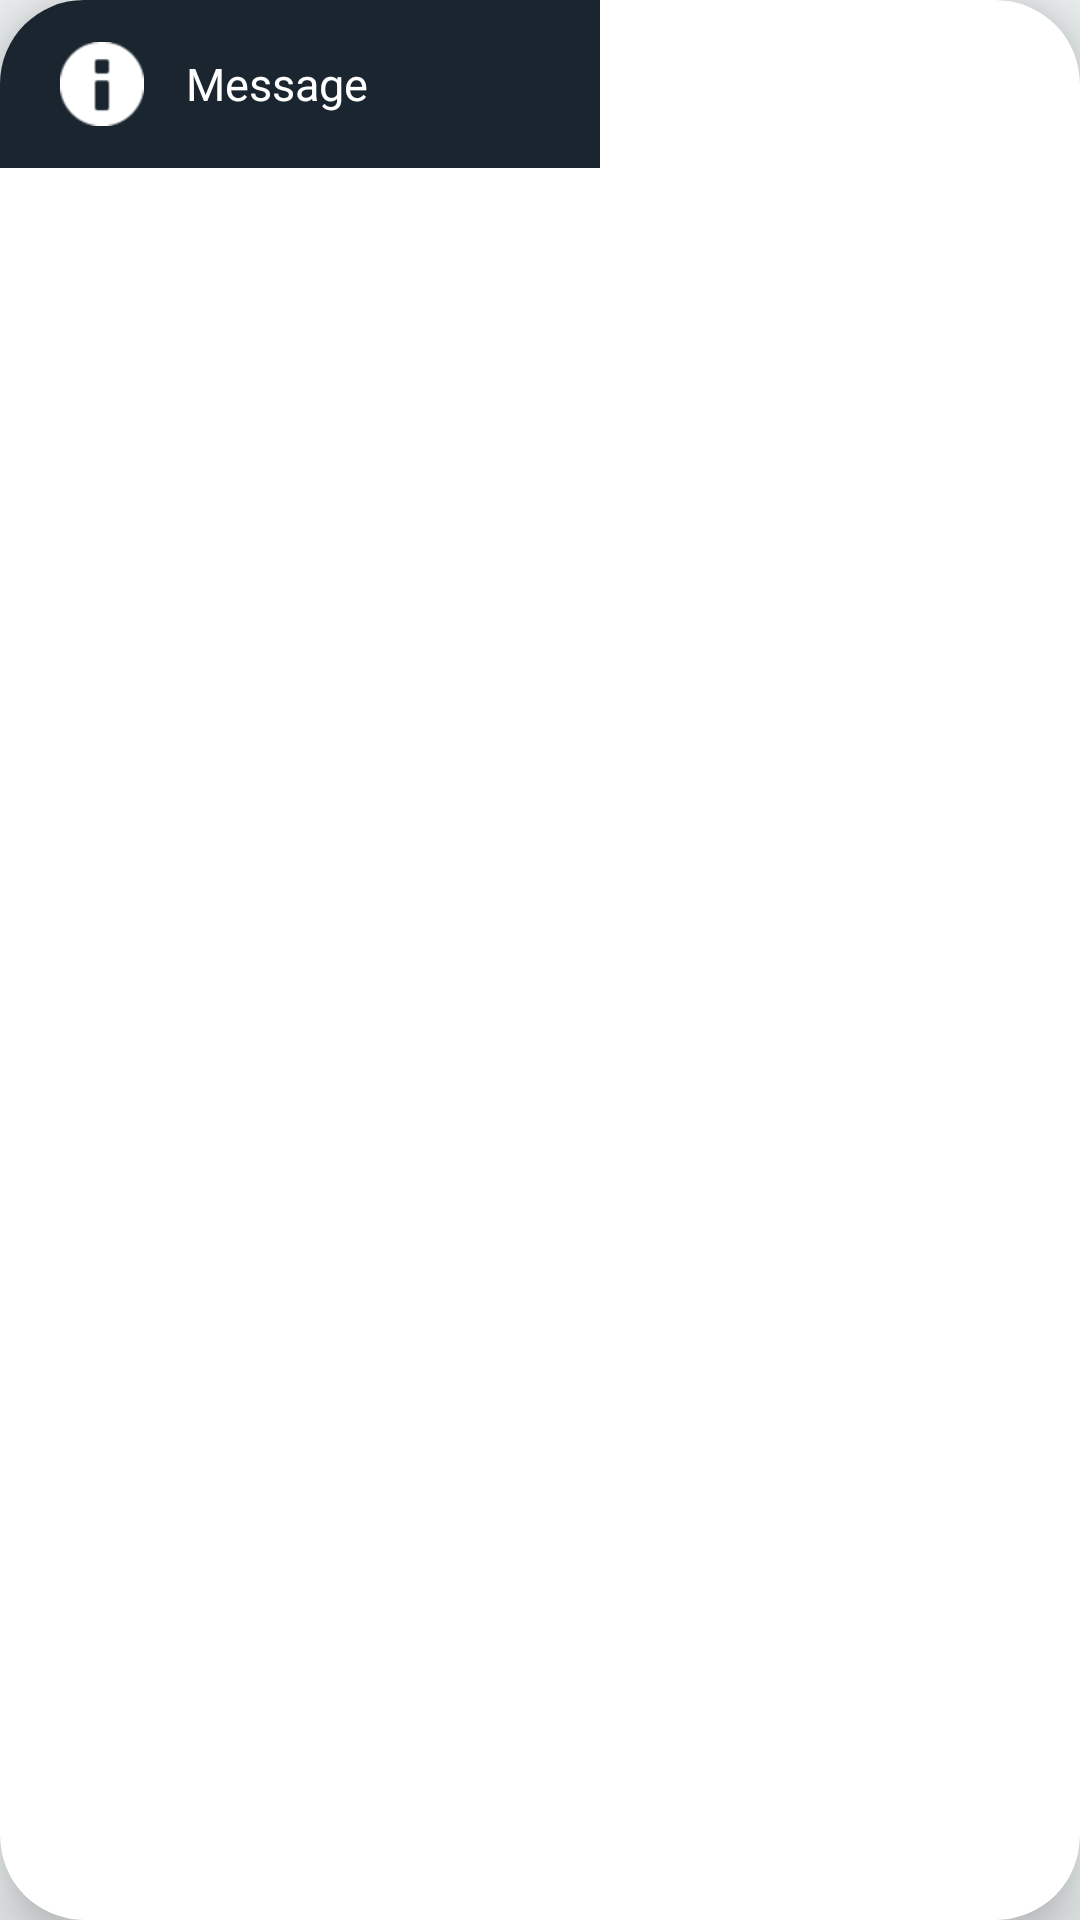

Named icons in this screenshot (1080×1920) and their bounding boxes, detection(x1, y1, x2, y2):
info: detection(60, 42, 144, 126)
